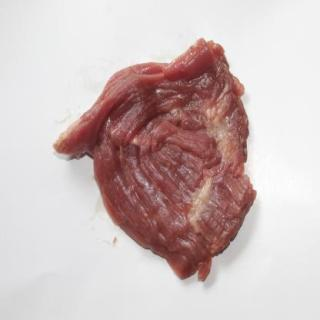Daging Sapi: (53, 37, 259, 283)
